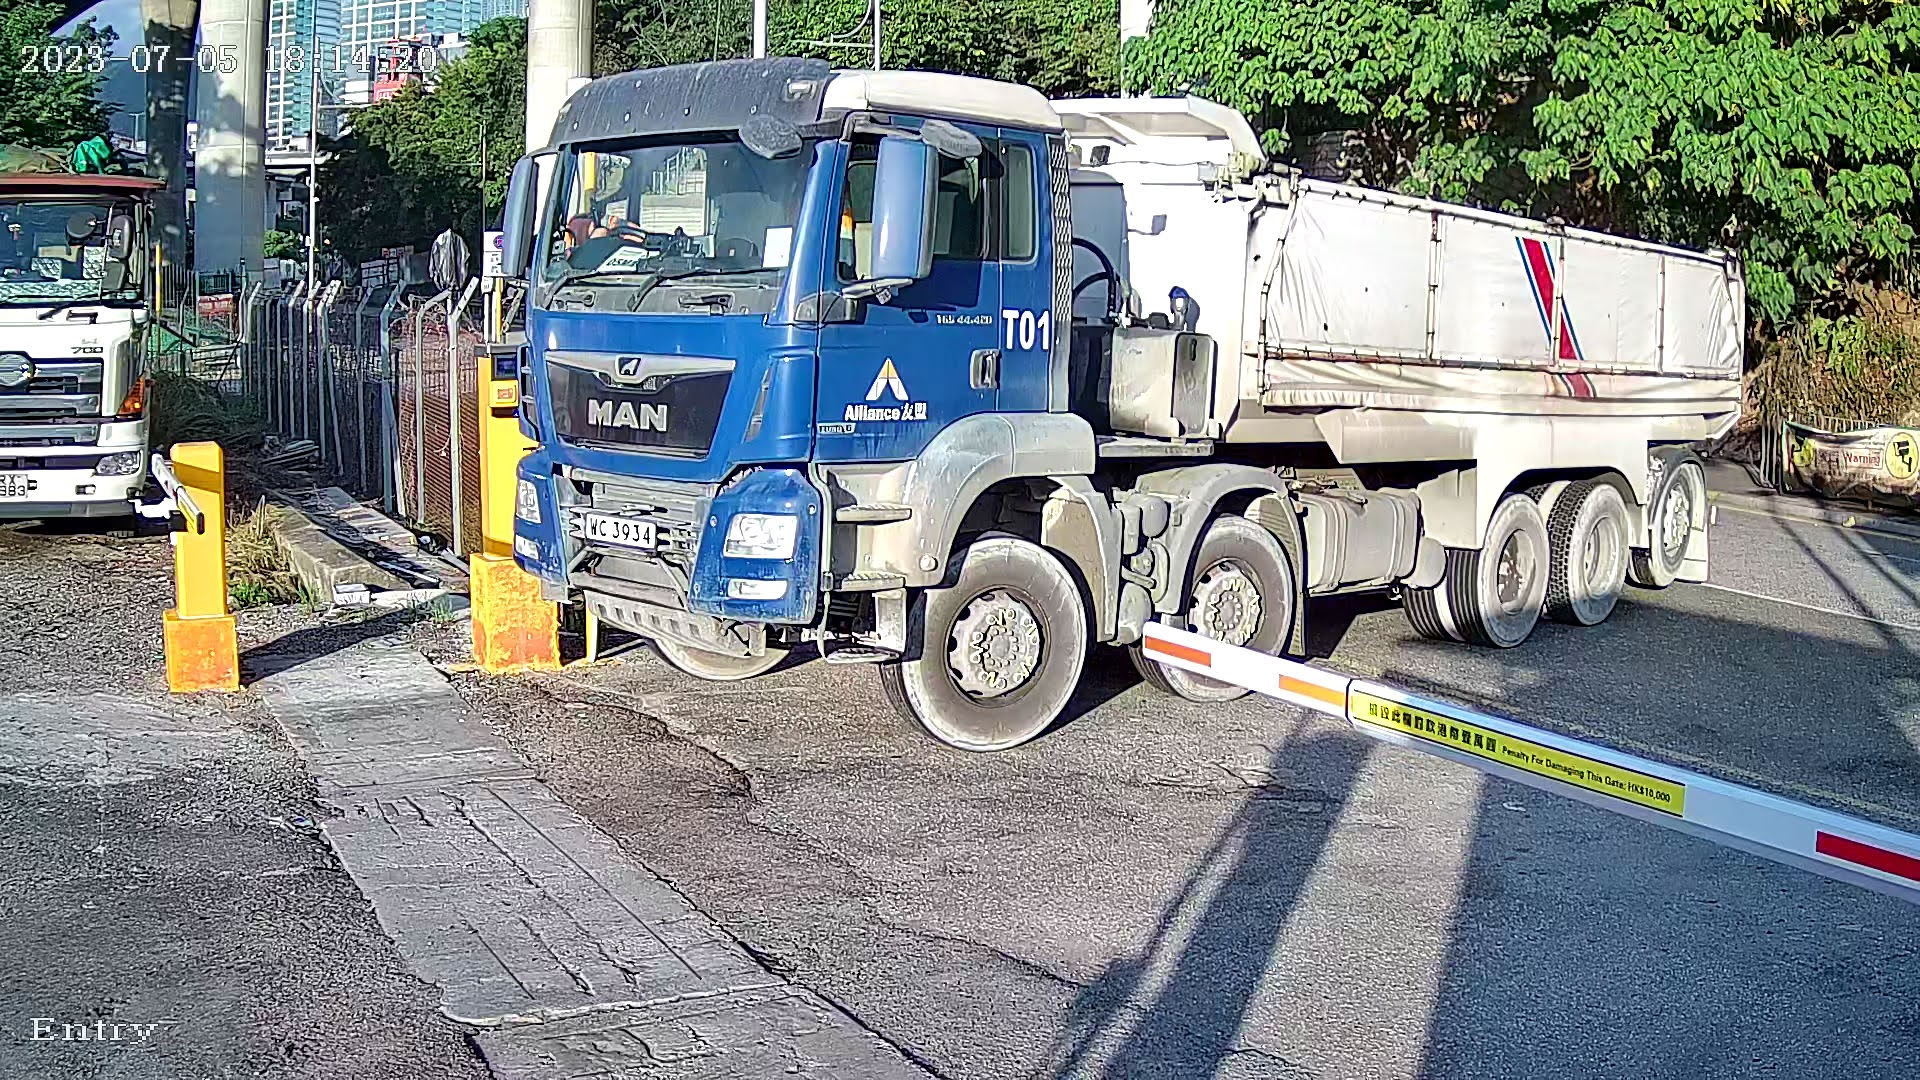truck_large: (473, 1, 1789, 769)
